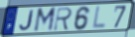6: (73, 6, 91, 31)
7: (113, 5, 127, 29)
J: (18, 9, 35, 32)
L: (91, 5, 108, 30)
M: (32, 7, 57, 34)
R: (53, 6, 74, 32)
